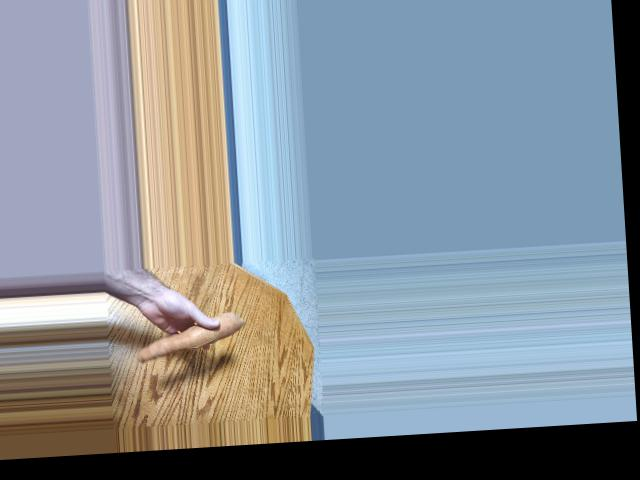sweet_potato: (129, 317, 243, 354)
